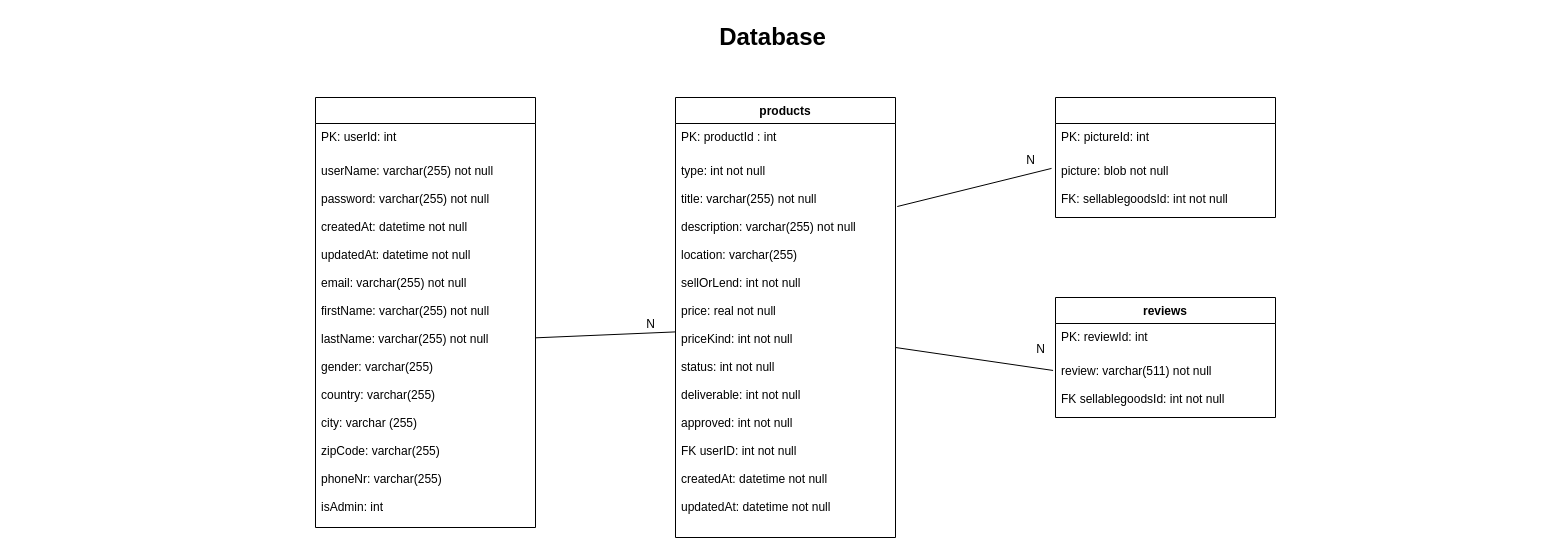
Image size: 1544x557. Some labels were removed from this diagram. Here are the shapes that lost their labels. From the top down, the box of each, then its label:
(1054, 96, 1276, 218): pictures
(314, 96, 536, 528): users
